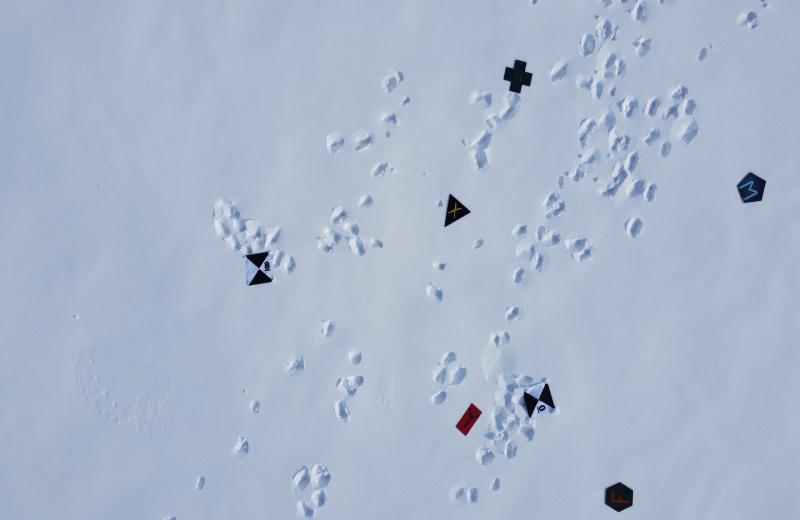Cross: (501, 56, 534, 96)
Hexagon: (600, 477, 636, 515)
Pentagon: (734, 167, 768, 205)
Rectangle: (453, 400, 483, 438)
Triangle: (440, 190, 472, 229)
